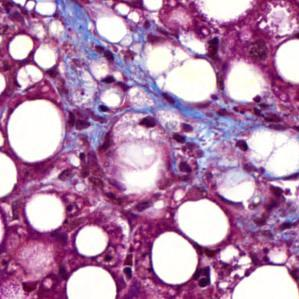steatosis: (3, 94, 71, 162), (175, 198, 236, 248), (23, 192, 67, 235), (75, 223, 114, 258)
